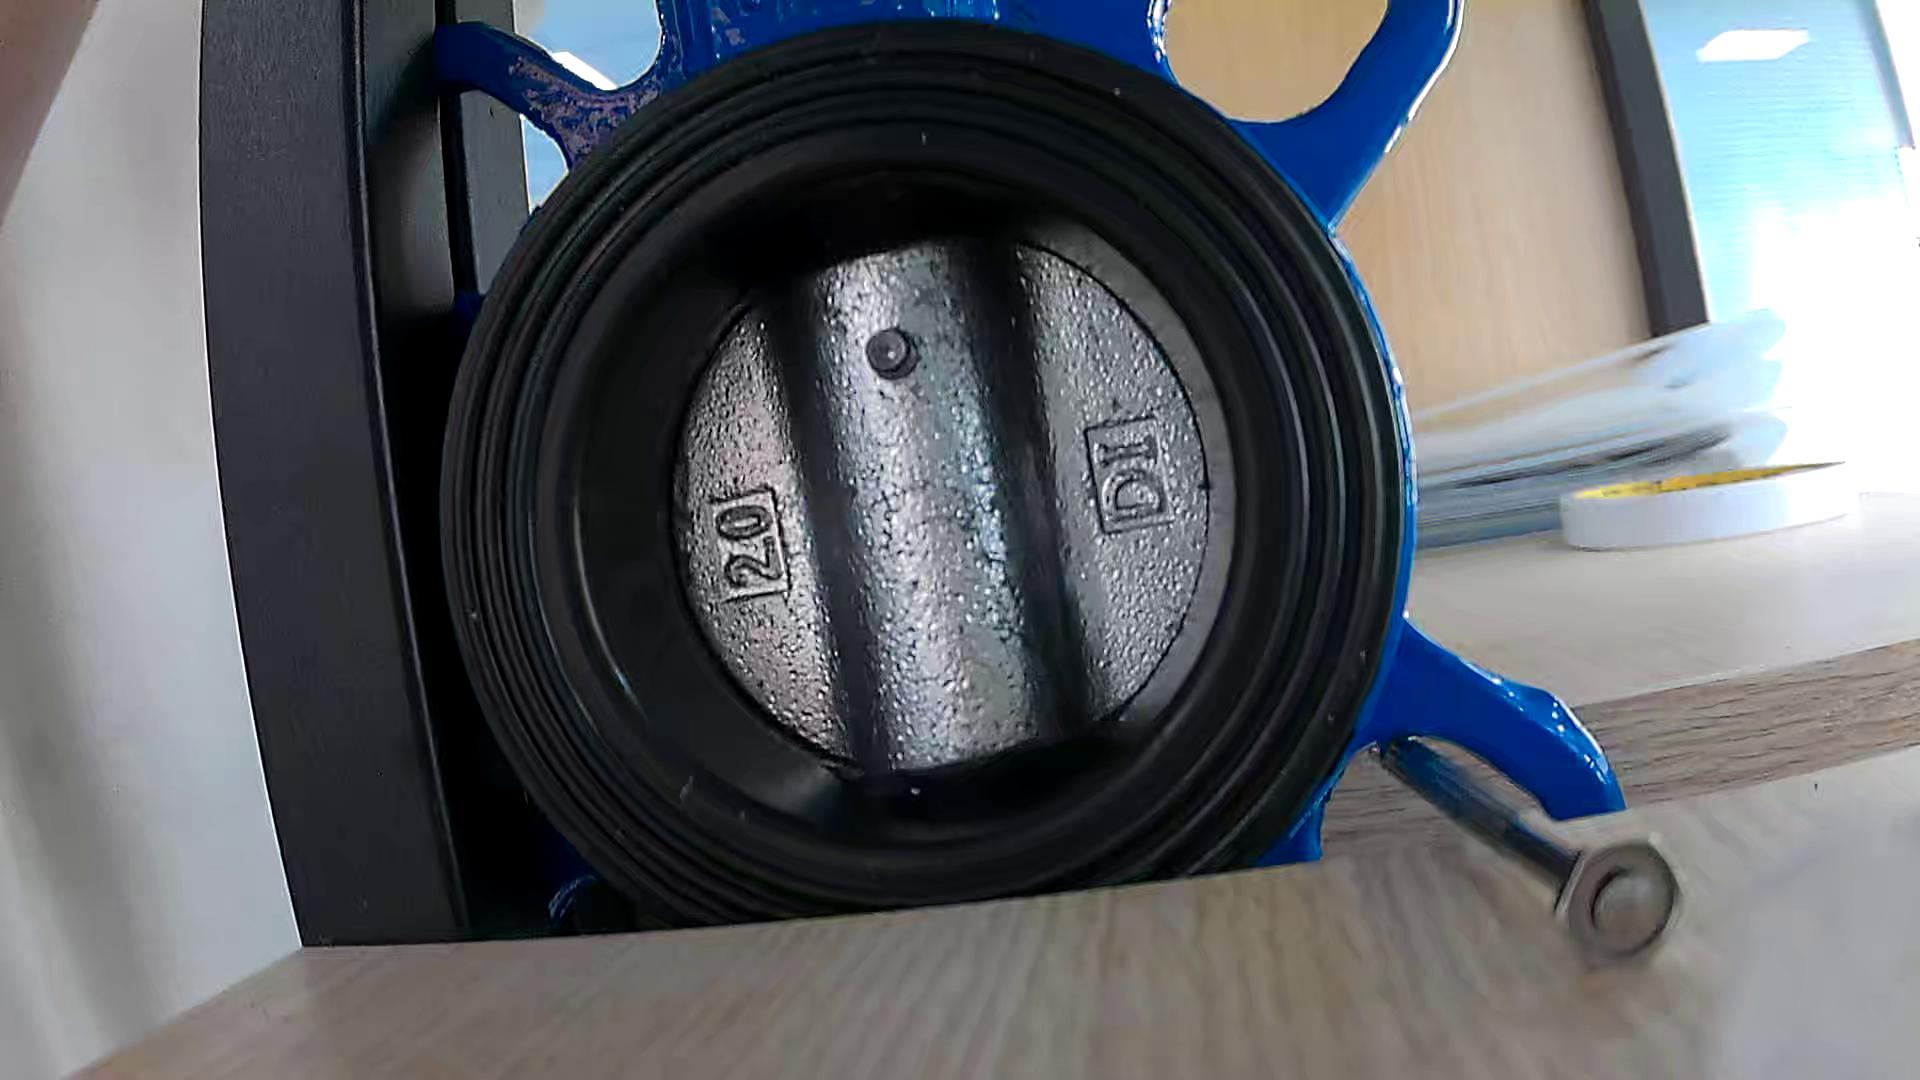valve: (671, 236, 1208, 777)
